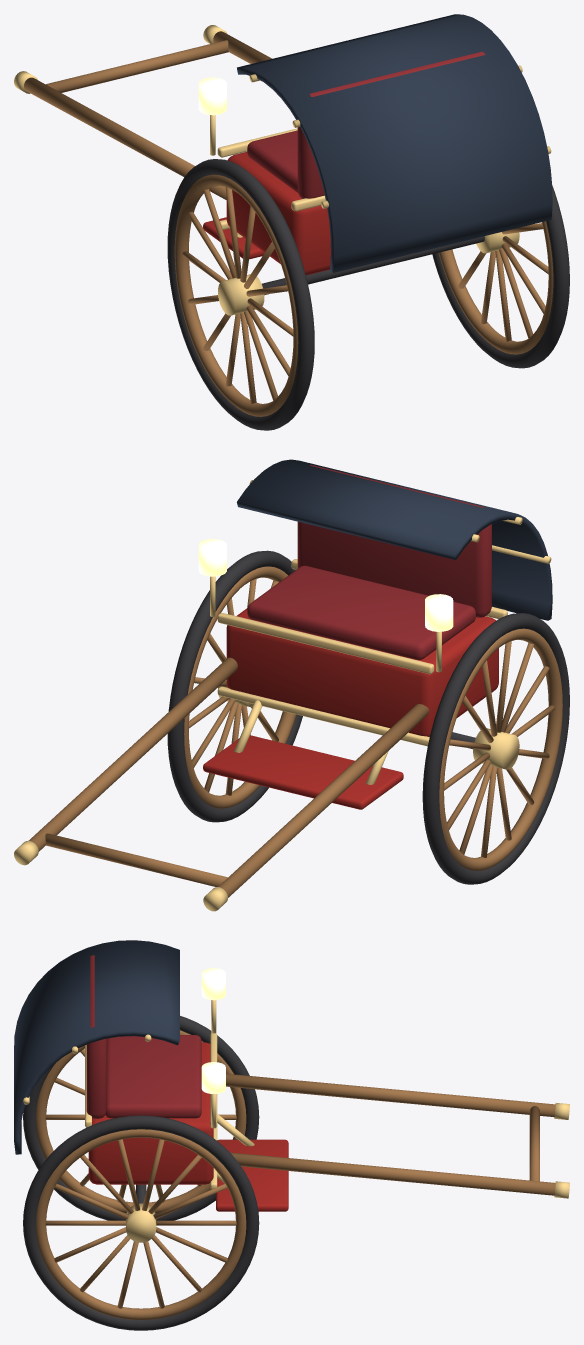
Rendered from rickshaw.glb.
The picture shows the model from 3 angles, top to bottom: view 1: azimuth 30°, elevation 25°; view 2: azimuth 150°, elevation 25°; view 3: azimuth 270°, elevation 25°; orthographic projection. The views are drawn at different scales.
Parts seen in each view (by area): view 1: Body, WheelL, WheelR; view 2: Body, WheelL, WheelR; view 3: Body, WheelR, WheelL.
Boxes of the visible parts, <box> form: Body: <box>14,14,552,295</box>; WheelL: <box>167,159,314,430</box>; WheelR: <box>432,186,569,368</box>; Body: <box>14,459,552,911</box>; WheelL: <box>422,613,569,884</box>; WheelR: <box>167,550,302,822</box>; Body: <box>14,940,569,1211</box>; WheelR: <box>23,1115,259,1330</box>; WheelL: <box>23,1016,259,1220</box>.
Size of the model in its own units: 1.38 by 1.59 by 2.75.
